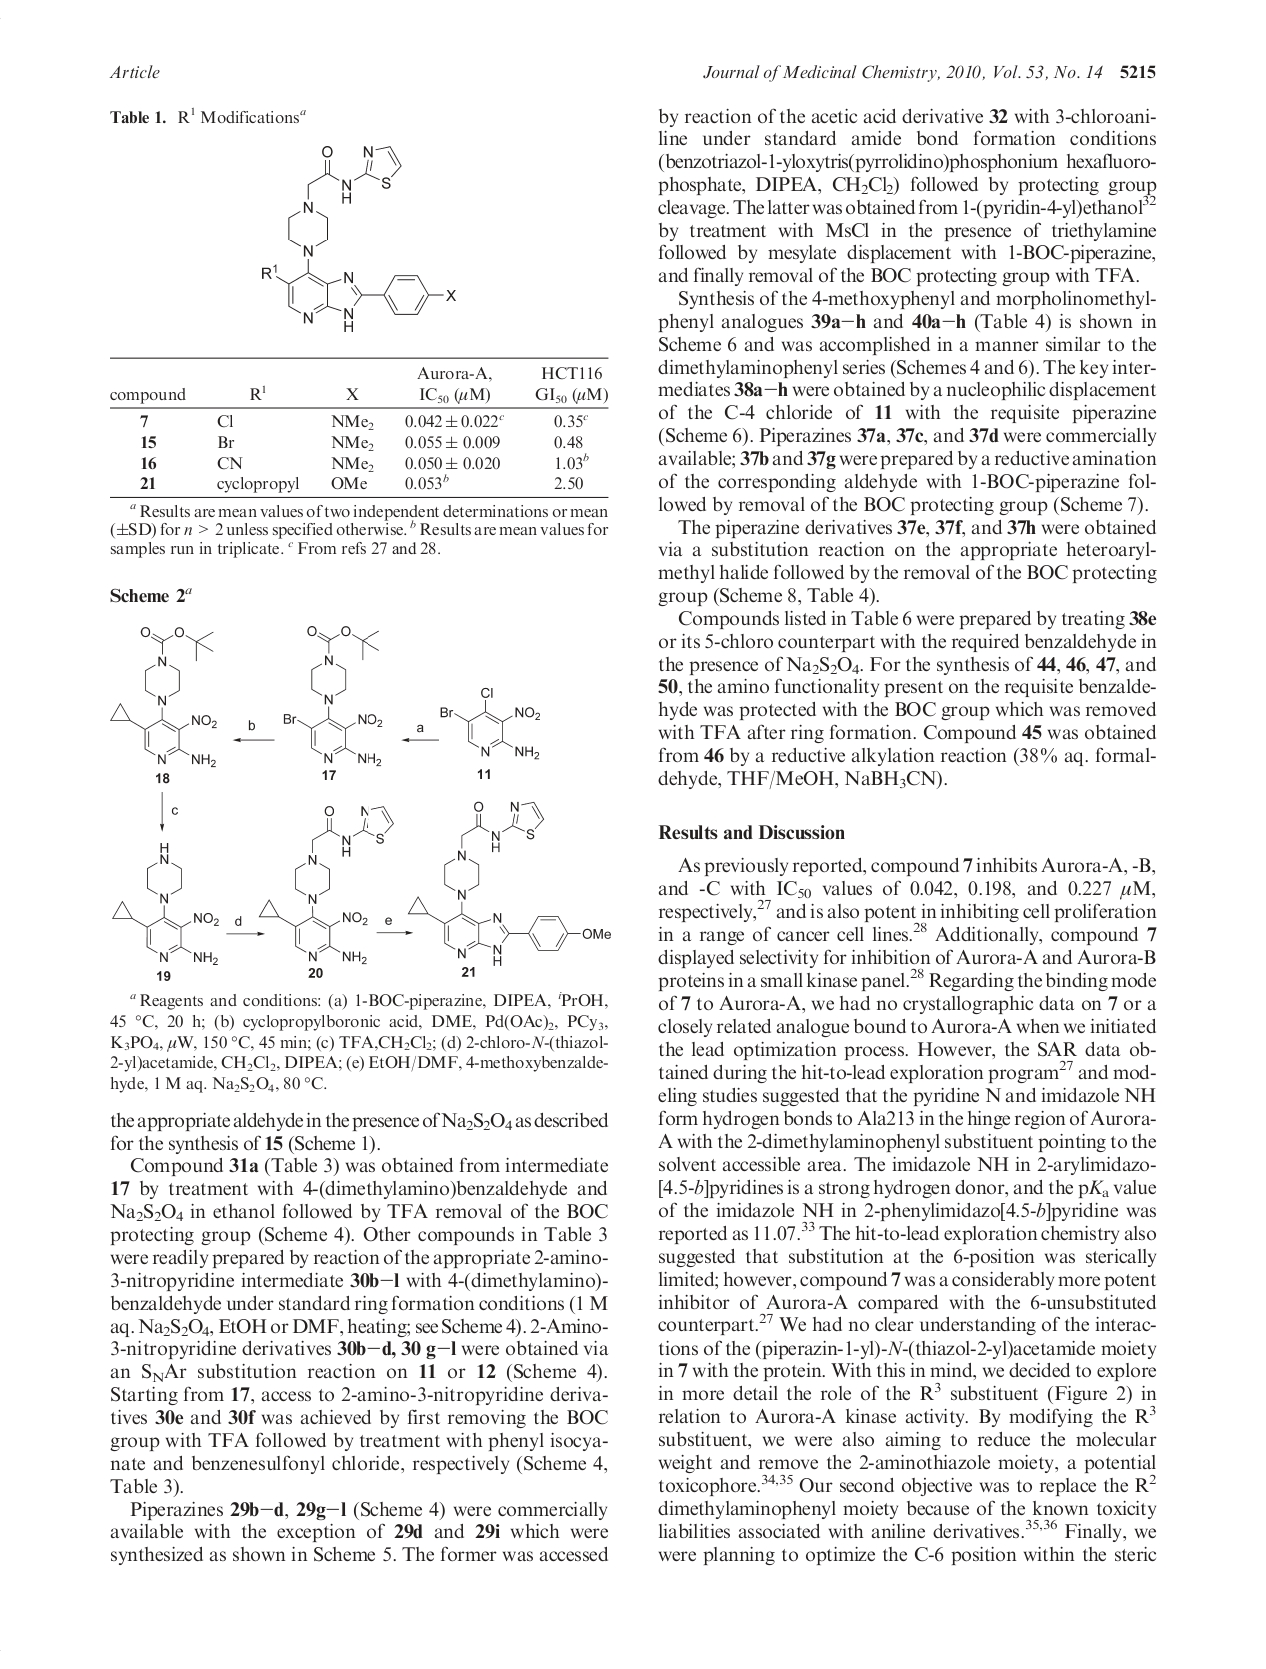exist_molecular: (261, 140, 457, 332), (407, 797, 614, 965), (259, 802, 398, 965), (109, 624, 219, 767), (110, 835, 222, 968), (281, 624, 384, 766), (438, 684, 543, 763)
